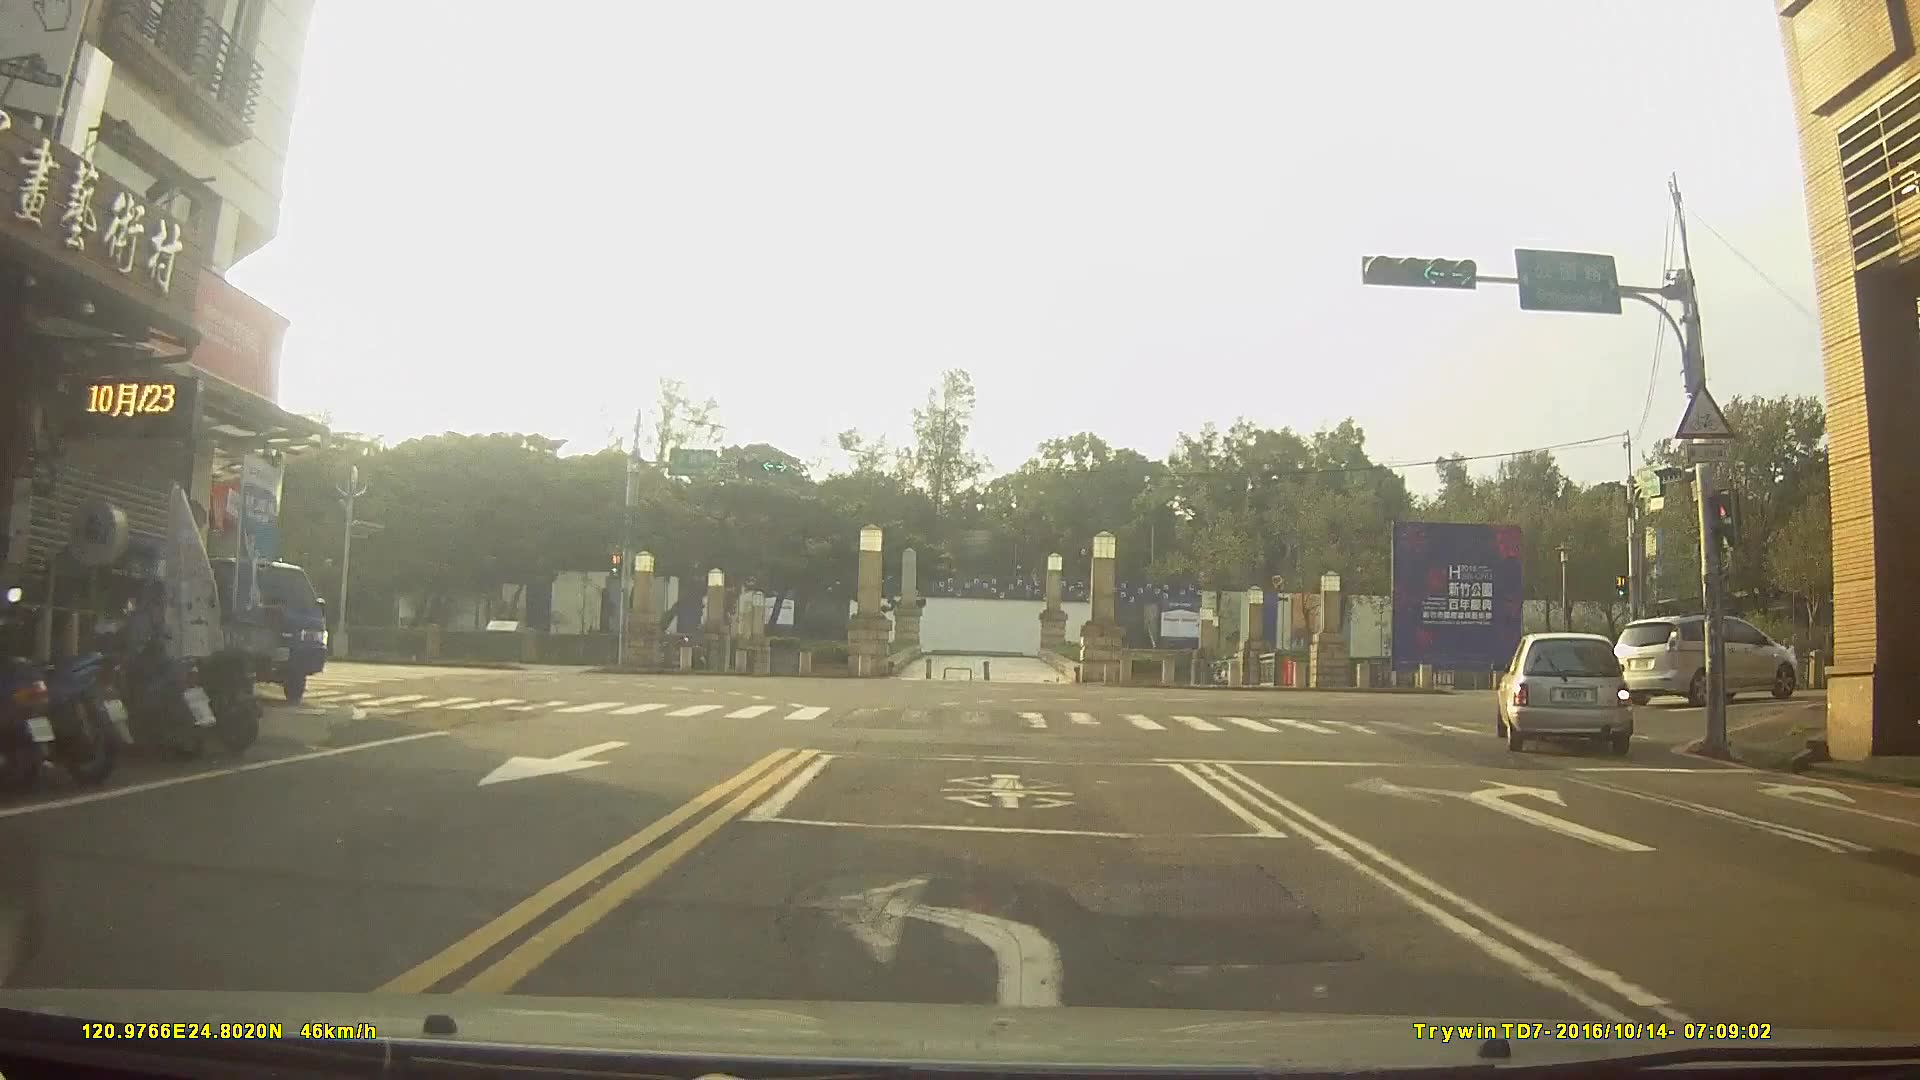vehicle: (196, 555, 326, 704), (1493, 628, 1636, 753), (1613, 611, 1799, 705)
